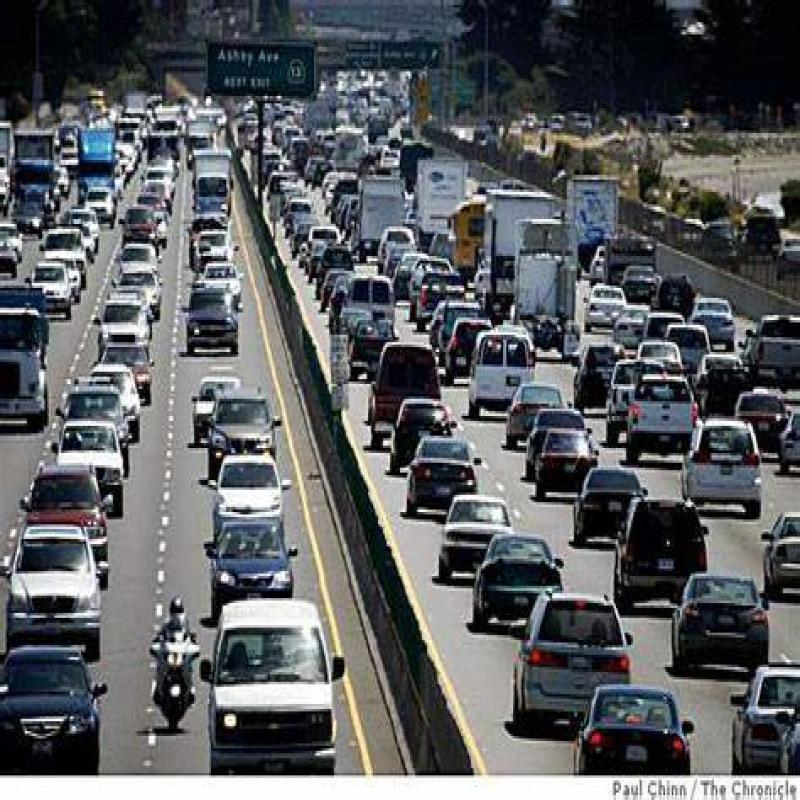car: (0, 631, 122, 779), (15, 519, 125, 675), (524, 577, 628, 728), (212, 619, 320, 756), (617, 504, 713, 616), (25, 452, 109, 569), (680, 590, 765, 678), (212, 524, 293, 616), (447, 486, 514, 595), (479, 519, 556, 612), (379, 340, 445, 446), (561, 472, 650, 548), (404, 424, 473, 519), (694, 414, 762, 510), (56, 414, 124, 506), (75, 370, 143, 454), (585, 347, 651, 429), (215, 470, 279, 554), (633, 382, 691, 470), (194, 371, 256, 449), (608, 363, 674, 436), (470, 324, 533, 398), (184, 285, 250, 353), (660, 319, 722, 391), (92, 294, 143, 379), (538, 417, 586, 507), (204, 401, 273, 463), (512, 378, 565, 454), (397, 390, 451, 462), (31, 246, 72, 328), (764, 507, 800, 598), (192, 252, 245, 300), (585, 285, 627, 335)
